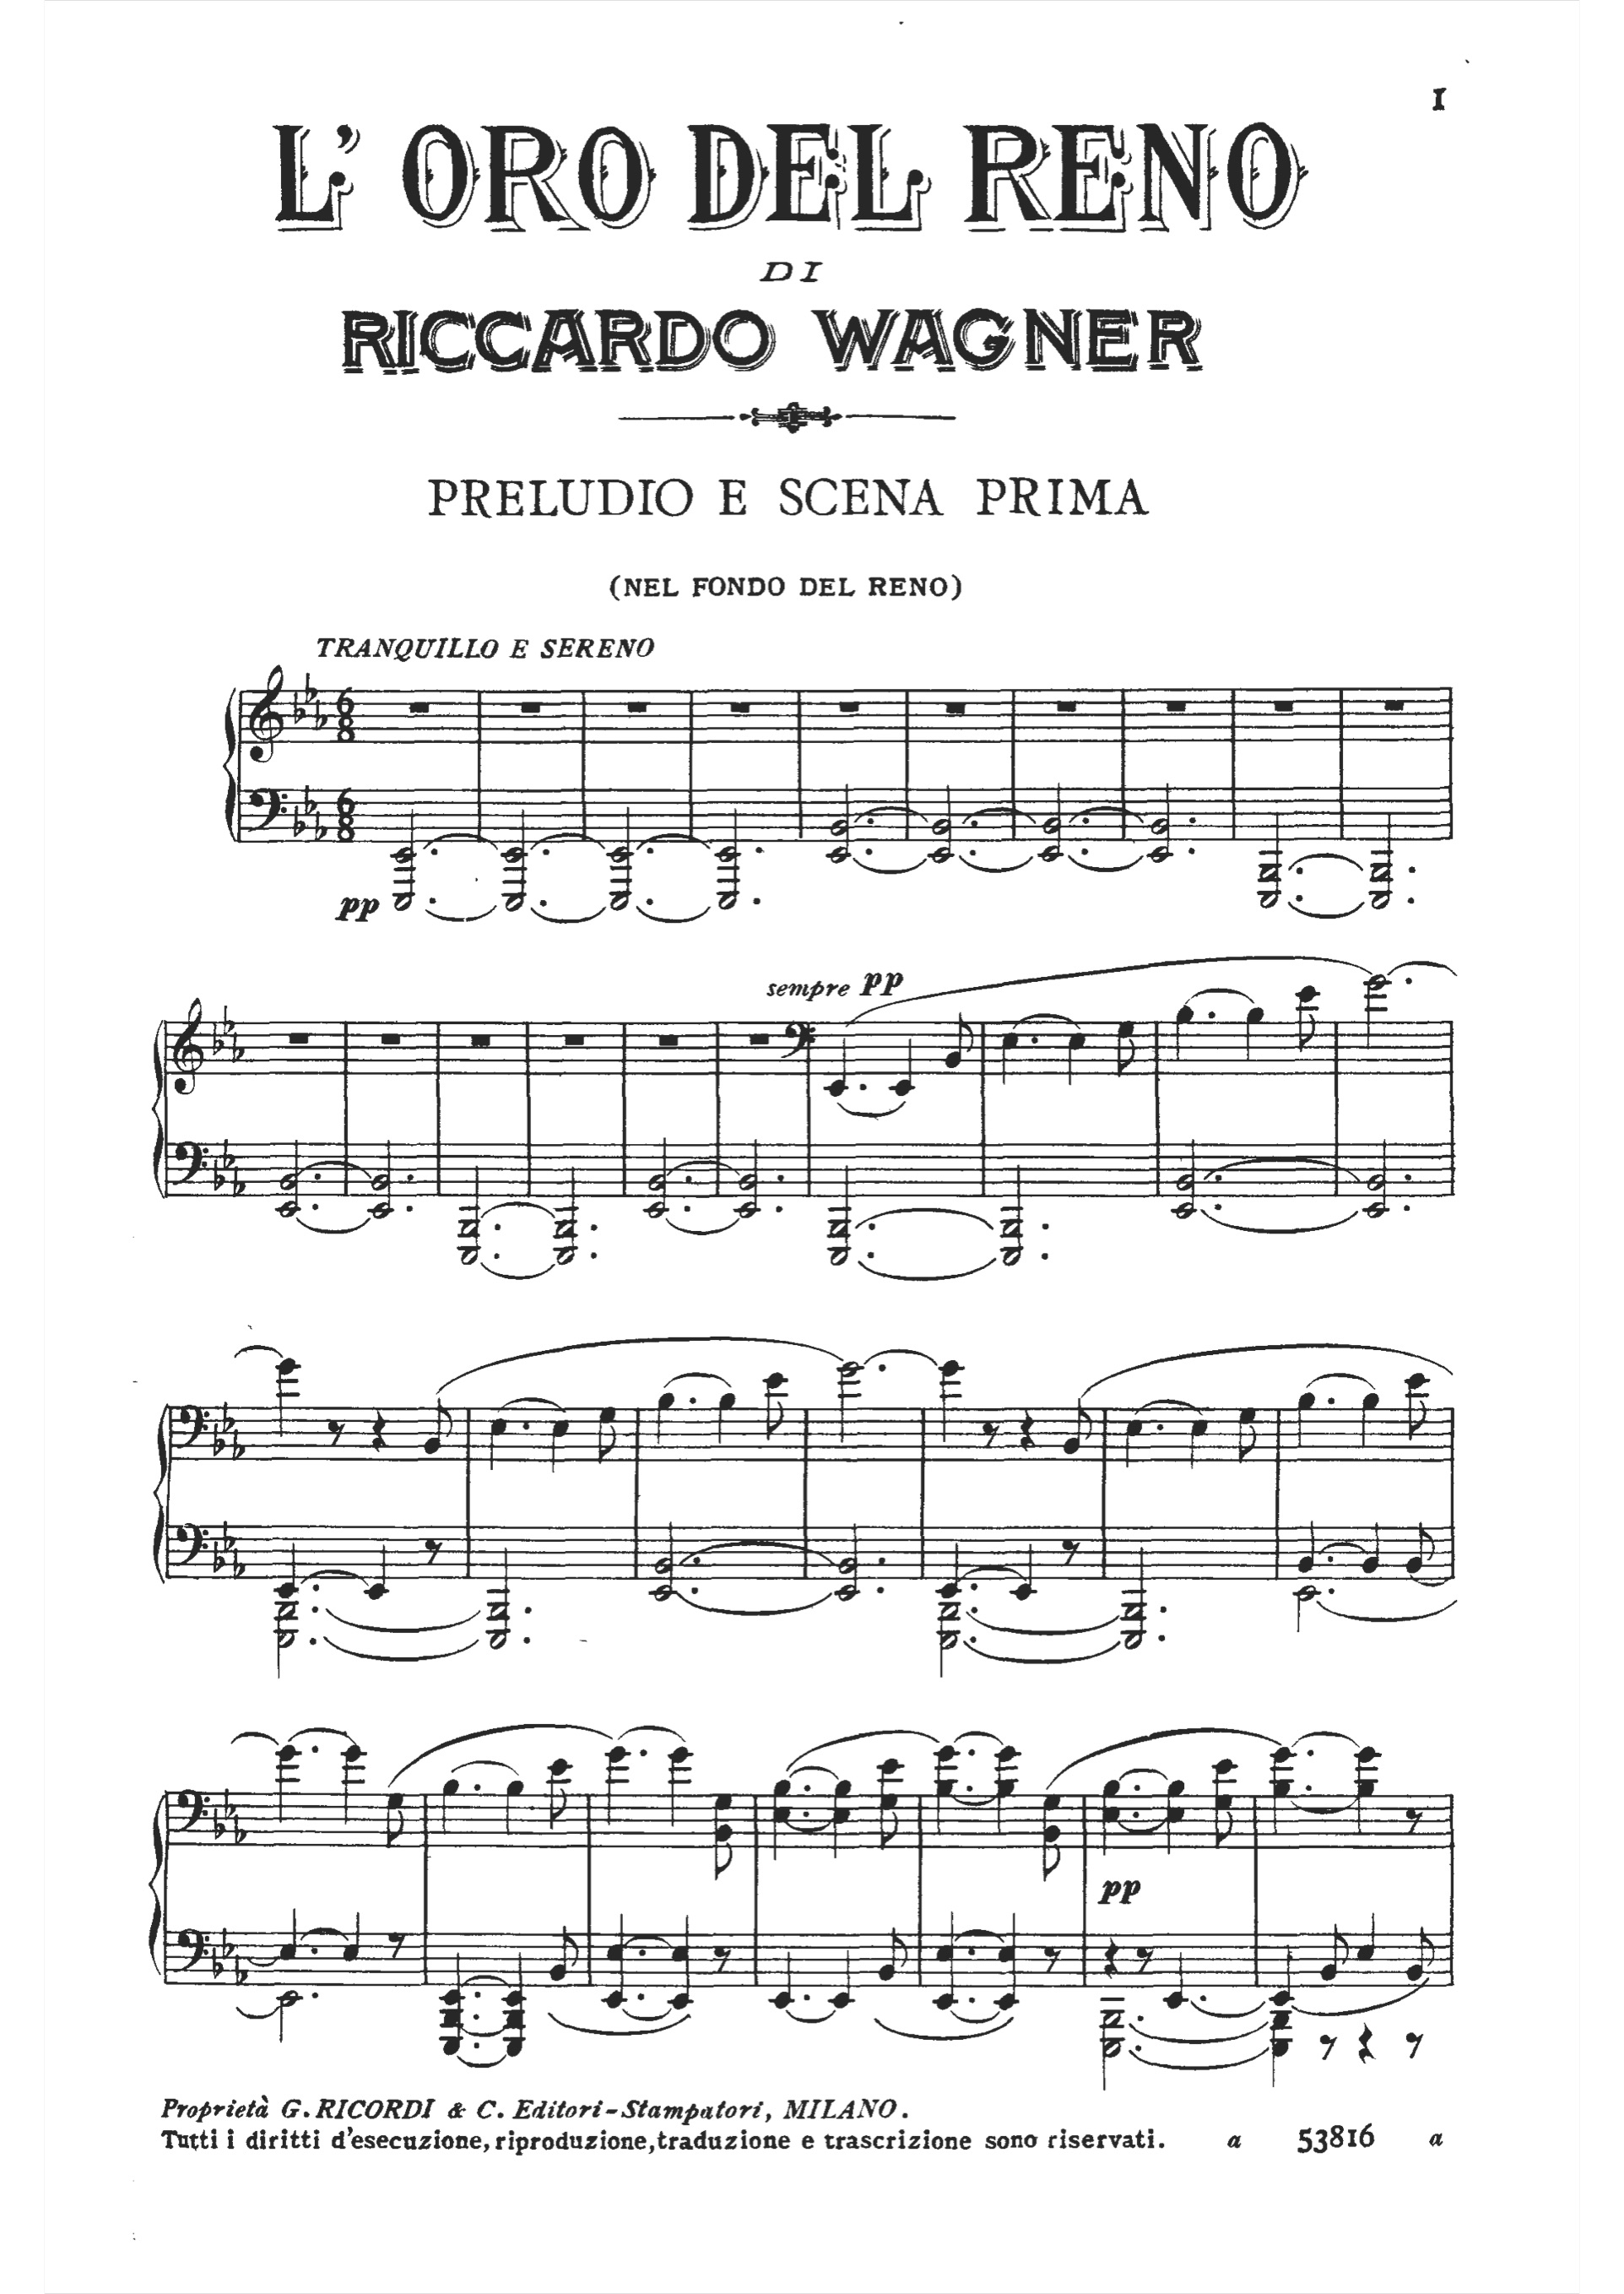bass_clef: (237, 766, 292, 851), (163, 1777, 213, 1842), (167, 1134, 213, 1199), (170, 1916, 213, 1983), (170, 1512, 209, 1580), (174, 1399, 214, 1454)
flat: (204, 1804, 230, 1844), (225, 1028, 250, 1071), (216, 1782, 241, 1825), (306, 809, 330, 849), (228, 1543, 250, 1589), (216, 1519, 243, 1554), (207, 1153, 227, 1201), (230, 1424, 251, 1466), (216, 1134, 239, 1172), (216, 1397, 239, 1436), (207, 1540, 230, 1579), (228, 1812, 251, 1851), (207, 1419, 228, 1459), (301, 664, 320, 707), (285, 803, 306, 842), (209, 1020, 228, 1062), (228, 1164, 248, 1206), (230, 1953, 251, 1992), (204, 1944, 227, 1979), (288, 687, 308, 728), (216, 1925, 237, 1962), (315, 694, 330, 738), (301, 782, 318, 817), (220, 1000, 236, 1037)
treble_clef: (241, 656, 292, 773), (163, 983, 211, 1104)
